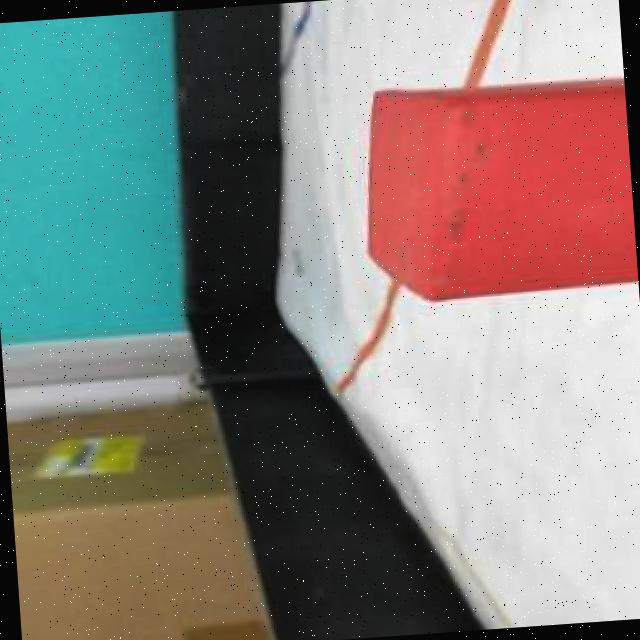redbox: (354, 70, 639, 308)
